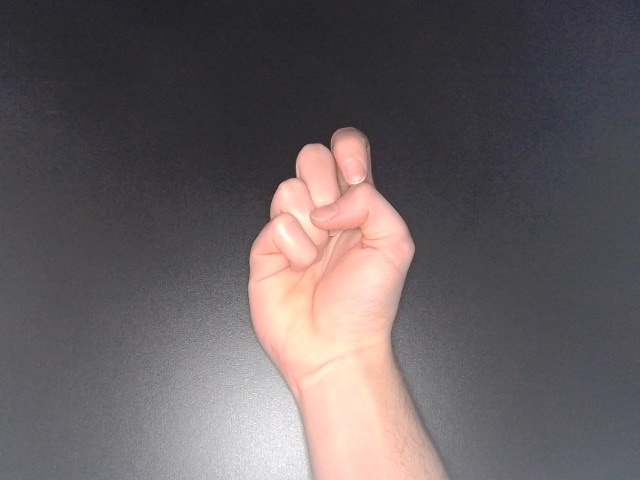s: (239, 122, 423, 396)
